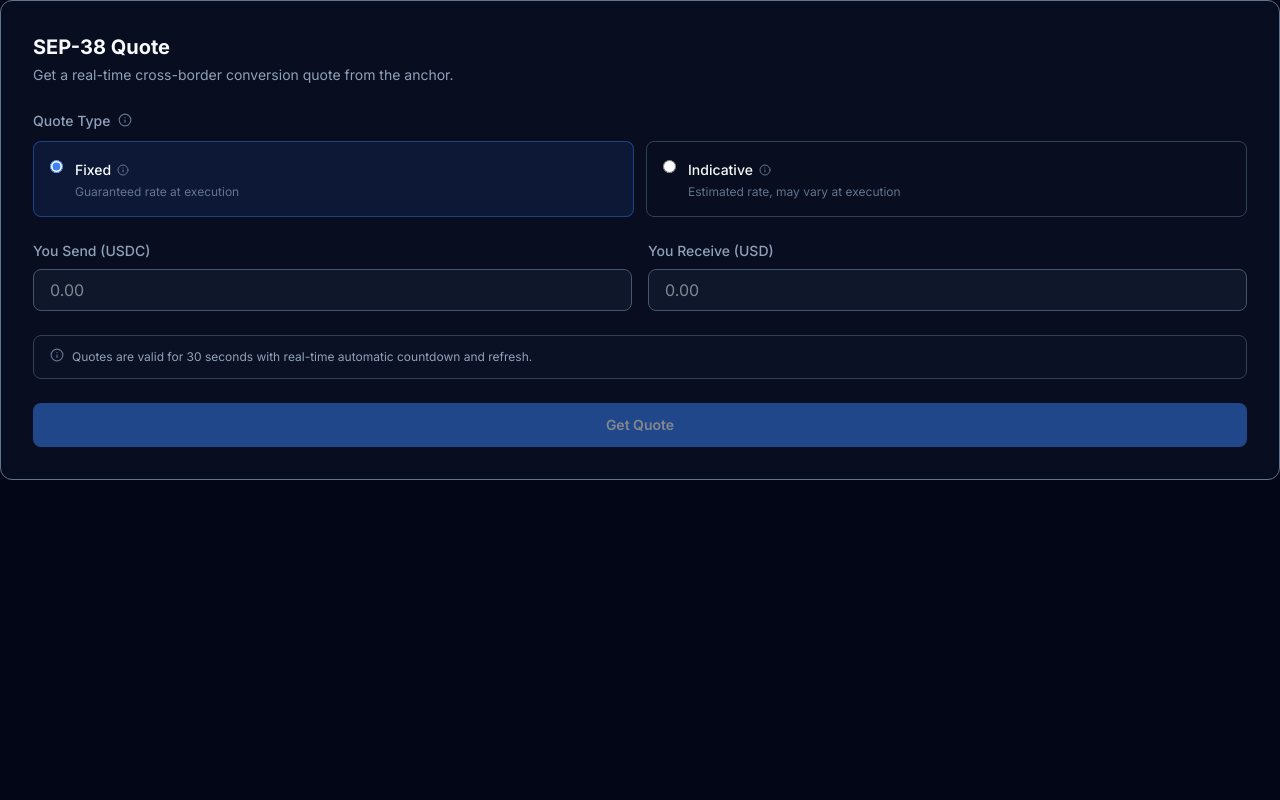
it: Sep38QuotePanel Component › fetches and displays quote details and countdown indicator on request
Type "100.00" into the number field labelled "You Send (USDC)" at (332, 290), box top-left (33, 269), bottom-right (632, 311)
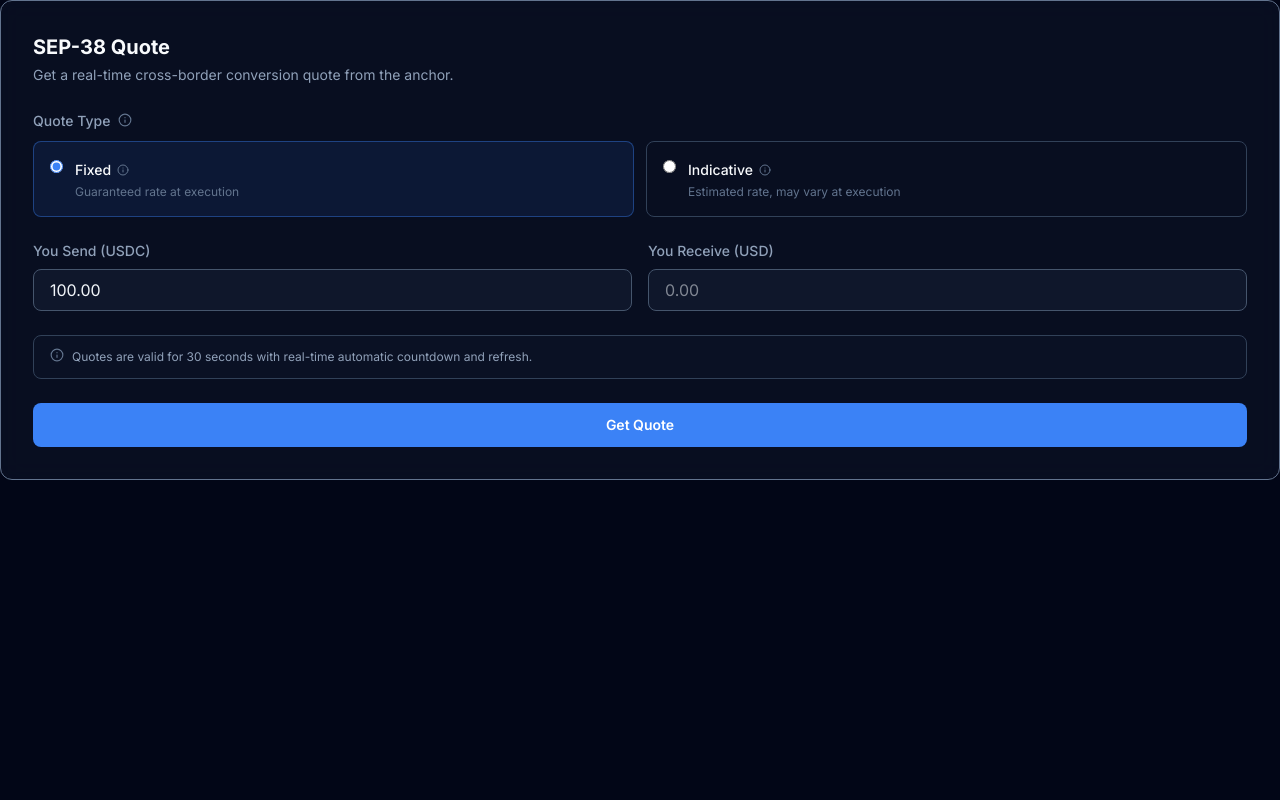
Click the button "Get Quote" at (640, 425), box top-left (33, 403), bottom-right (1247, 447)
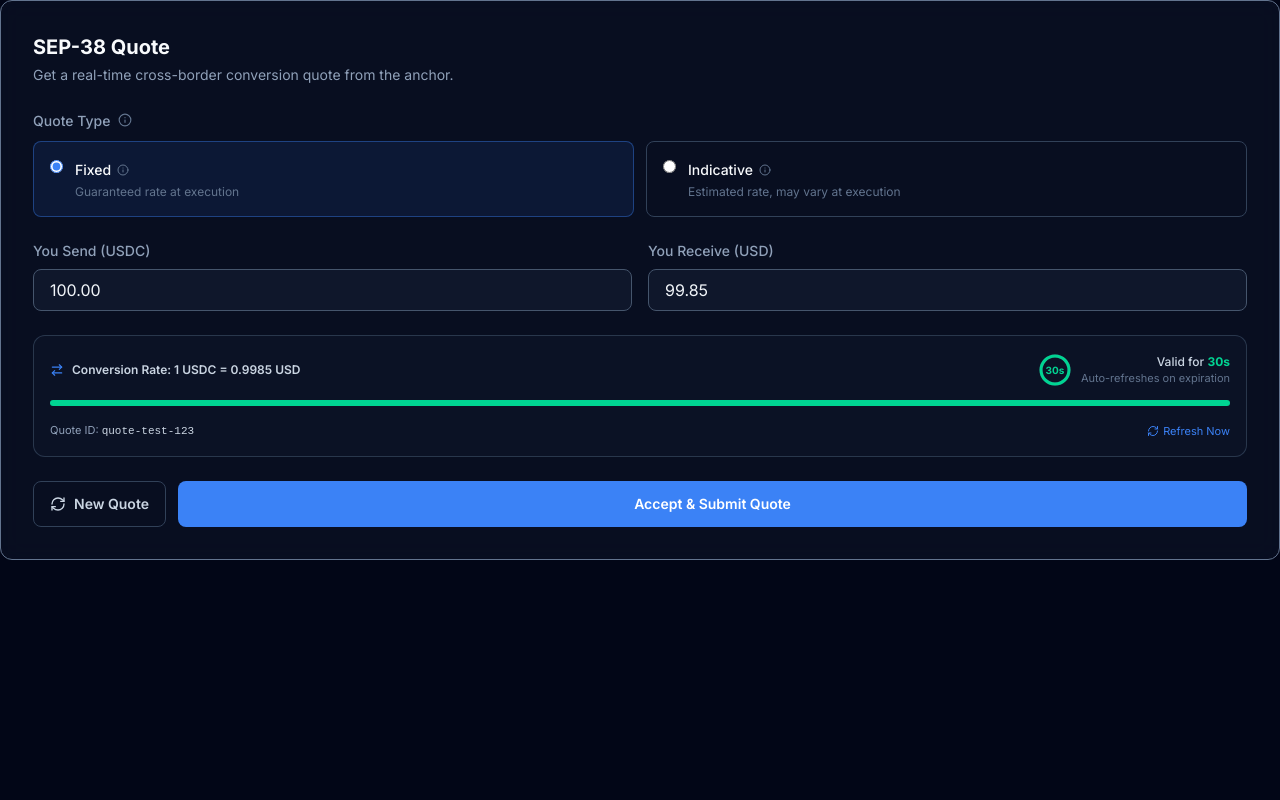
expect the text "Conversion Rate: 1 USDC = 0.9985 USD" is shown: met, box top-left (72, 362), bottom-right (300, 378)
expect the text "quote-test-123" is shown: met, box top-left (102, 425), bottom-right (194, 437)
expect the progress indicator named "Quote validity countdown" is shown: met, box top-left (1037, 352), bottom-right (1073, 388)
